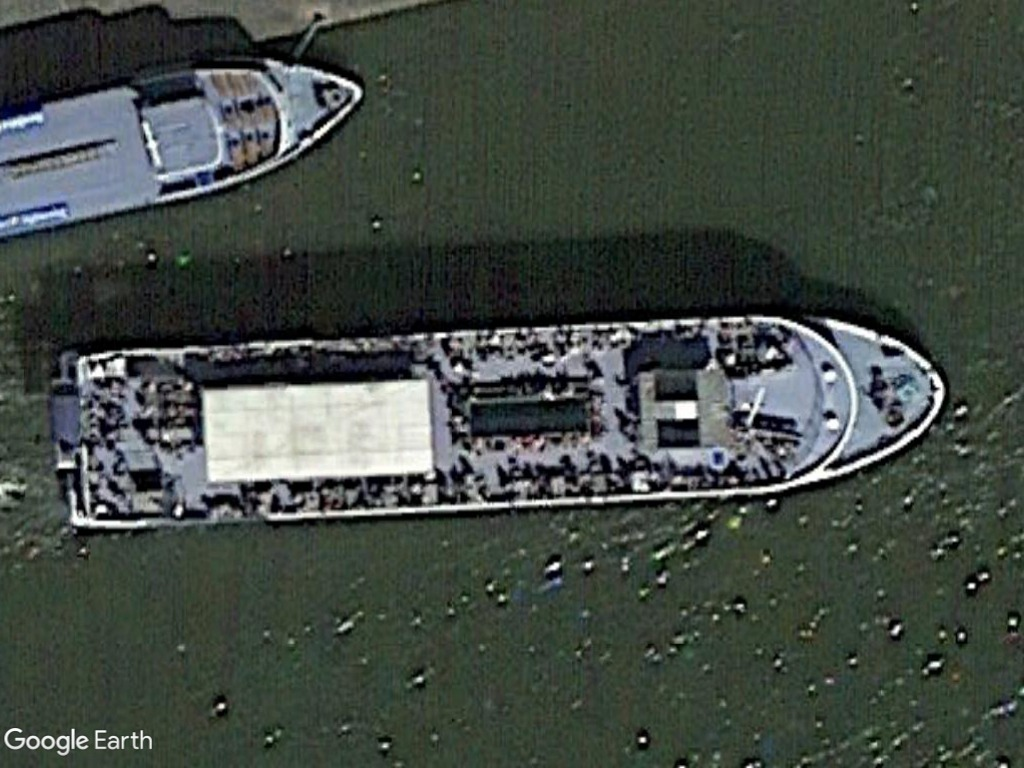boat: (46, 313, 952, 540)
